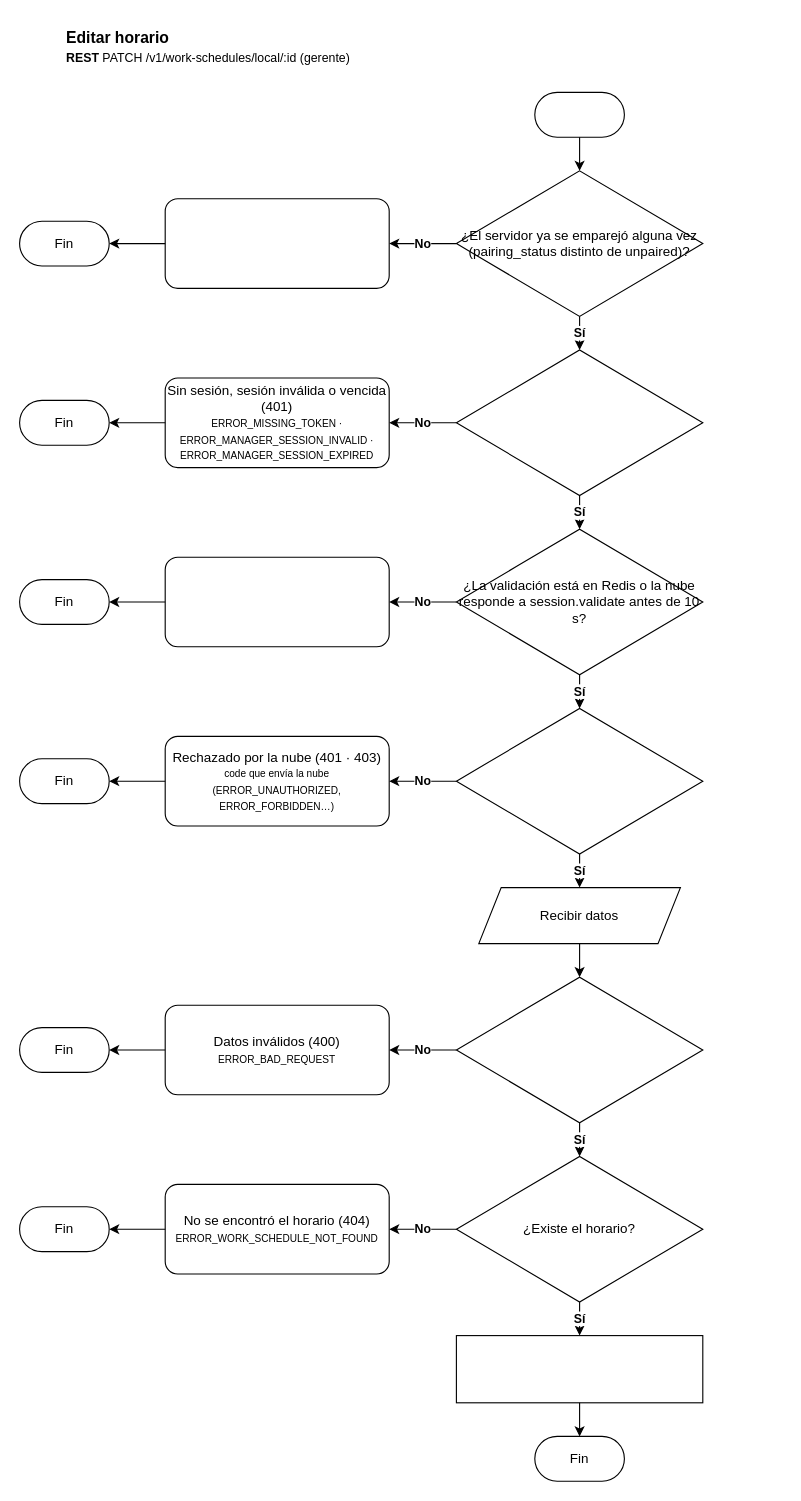
This 801x1501 diagram has some shape labels left out. Each missing label, with the box of its shape:
Inicio: (534, 91, 624, 137)
La nube no responde (503) ERROR_CLOUD_UNAVAILABLE · ERROR_SERVER_UNLINKED: (164, 556, 389, 647)
Responder 200 con el mensaje WORK_SCHEDULE_UPDATED: (455, 1334, 703, 1403)
Servidor sin emparejar (409) ERROR_SERVER_NOT_PAIRED: (164, 198, 389, 288)
¿La nube acepta la sesión del gerente con este servidor?: (455, 707, 703, 854)
¿Los datos son válidos?: (455, 976, 703, 1123)
¿Trae una sesión de gerente válida (Bearer mss_..., sin 30 min de inactividad)?: (455, 349, 703, 496)
